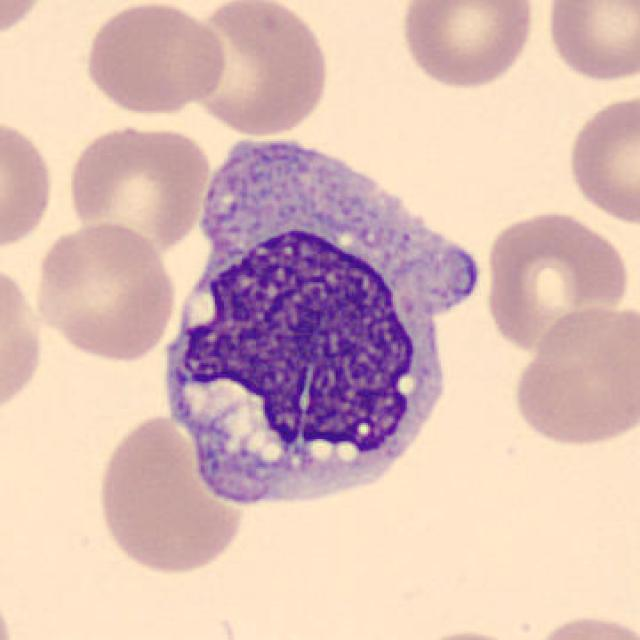monocyte: (176, 136, 483, 507)
rbc: (98, 412, 252, 590), (482, 206, 632, 357), (33, 221, 177, 366), (514, 300, 640, 456), (194, 0, 336, 134), (70, 127, 208, 256), (85, 7, 234, 114), (397, 0, 535, 104), (542, 0, 640, 90), (0, 120, 51, 251), (0, 273, 47, 410)
